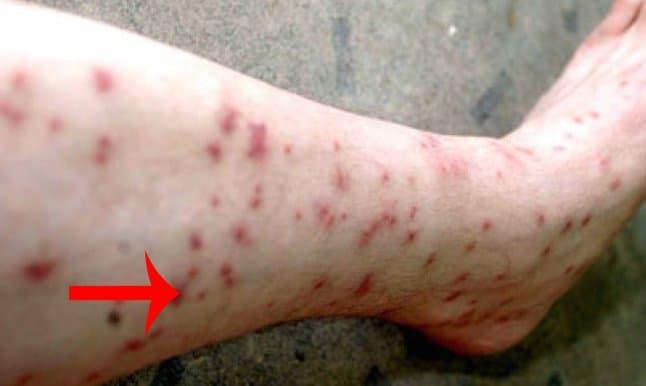Fleas: (414, 119, 479, 197), (297, 189, 350, 242), (487, 292, 533, 335), (443, 302, 491, 342), (121, 330, 170, 368), (596, 150, 630, 198), (358, 208, 403, 243), (483, 138, 530, 168), (559, 210, 596, 246), (325, 158, 357, 199), (483, 266, 521, 299), (87, 133, 119, 166), (559, 255, 591, 286), (0, 100, 28, 132), (2, 65, 31, 95), (399, 227, 426, 258), (245, 186, 270, 218), (400, 196, 421, 234), (216, 261, 240, 294), (246, 121, 267, 158), (21, 259, 54, 282), (89, 67, 116, 94), (353, 273, 378, 301), (377, 166, 401, 194), (219, 106, 240, 137), (419, 246, 439, 278), (565, 113, 593, 135), (537, 241, 561, 266), (227, 219, 254, 241), (529, 209, 551, 236), (307, 274, 335, 294), (452, 271, 480, 290), (208, 194, 231, 214), (43, 114, 65, 133), (440, 288, 466, 304), (186, 229, 204, 252), (204, 140, 222, 161), (478, 217, 495, 239), (183, 263, 200, 284), (584, 108, 607, 123), (328, 296, 345, 314), (107, 309, 122, 329), (282, 139, 299, 156), (194, 280, 208, 300), (333, 139, 347, 158), (462, 241, 479, 253)
